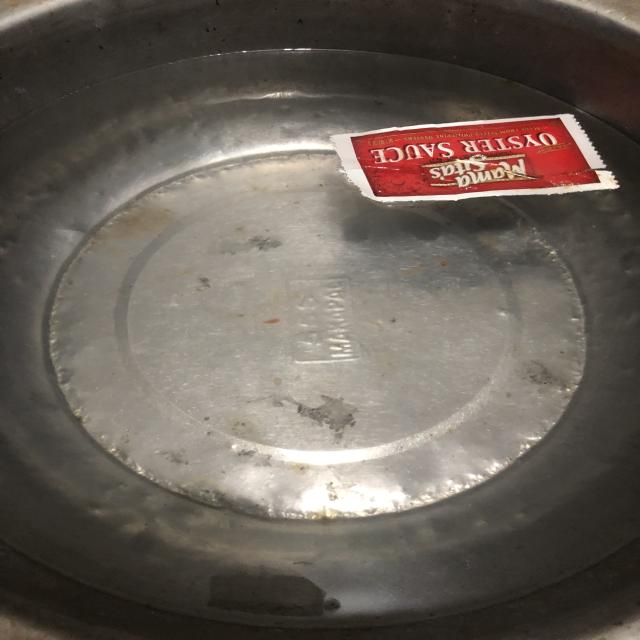Plastic Wrapper: (324, 102, 629, 210)
